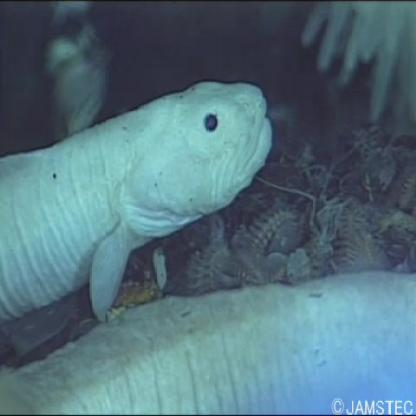Bio: (1, 73, 277, 326)
